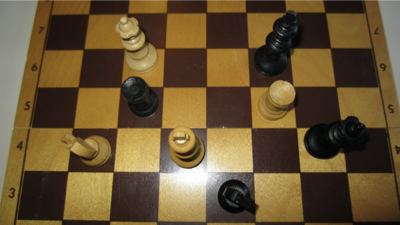black-king: (254, 10, 300, 77)
black-knight: (218, 180, 256, 214)
black-queen: (304, 117, 369, 160)
black-rook: (121, 77, 160, 118)
white-king: (169, 126, 206, 169)
white-knight: (61, 132, 112, 168)
white-queen: (115, 16, 159, 74)
white-rook: (258, 80, 297, 122)
